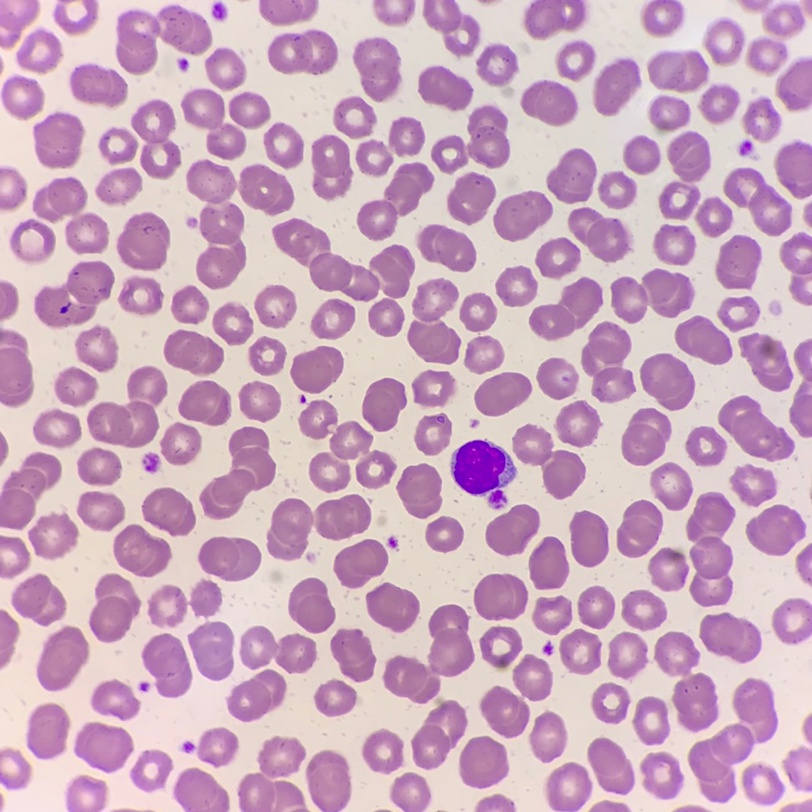RBC: (274, 219, 414, 300), (689, 679, 775, 800), (384, 605, 473, 702), (300, 401, 393, 487), (187, 161, 245, 288), (201, 427, 274, 518), (116, 6, 211, 74), (88, 367, 166, 447), (655, 632, 717, 730), (358, 163, 432, 239), (33, 178, 107, 252), (687, 492, 733, 605), (513, 425, 584, 497), (432, 106, 509, 172), (35, 262, 113, 326), (239, 738, 304, 811), (719, 396, 793, 459), (0, 453, 60, 528), (724, 168, 790, 235), (182, 89, 245, 159), (530, 278, 601, 339), (408, 279, 459, 363), (659, 133, 709, 218), (612, 270, 692, 322), (451, 440, 514, 506), (581, 322, 633, 401), (132, 100, 180, 178), (412, 701, 466, 768), (241, 626, 315, 671), (90, 574, 139, 641), (37, 627, 88, 690), (569, 208, 628, 261), (143, 634, 191, 696), (424, 0, 478, 55), (640, 354, 694, 409), (268, 30, 337, 73), (118, 213, 169, 270), (700, 613, 760, 661), (739, 335, 791, 390), (114, 525, 170, 576), (228, 670, 285, 720), (746, 505, 804, 554), (354, 38, 399, 101), (75, 722, 132, 771), (494, 192, 551, 240), (622, 408, 670, 464), (34, 113, 83, 167), (268, 499, 312, 559), (199, 537, 260, 580), (418, 225, 475, 271), (240, 165, 293, 214), (12, 575, 65, 624), (307, 751, 350, 811), (675, 317, 731, 363), (486, 505, 538, 554), (547, 149, 595, 202), (594, 59, 639, 115), (189, 622, 233, 679), (165, 331, 223, 374), (334, 540, 387, 587), (588, 738, 633, 793), (289, 578, 334, 632), (617, 501, 661, 556), (0, 330, 32, 405), (367, 584, 418, 631), (460, 736, 507, 787), (312, 135, 350, 198), (143, 488, 195, 534), (474, 574, 527, 619), (316, 495, 370, 539), (475, 372, 530, 415), (291, 346, 342, 392), (522, 81, 575, 125), (524, 0, 585, 38), (481, 687, 528, 736), (716, 236, 760, 288), (70, 65, 127, 105), (419, 66, 472, 109), (27, 704, 69, 758), (448, 173, 494, 222), (648, 53, 707, 91), (398, 464, 440, 517), (175, 769, 228, 811), (179, 381, 230, 424), (331, 629, 374, 680), (363, 378, 405, 430), (780, 235, 811, 304), (547, 763, 590, 810), (790, 340, 811, 436), (570, 512, 607, 566), (529, 537, 568, 588), (29, 515, 76, 557), (775, 145, 811, 197), (17, 30, 61, 72), (556, 401, 598, 445), (651, 463, 691, 509), (641, 753, 681, 798), (0, 0, 38, 47), (772, 598, 811, 643), (78, 492, 124, 530), (92, 681, 139, 718), (480, 627, 521, 669), (11, 220, 54, 260), (77, 327, 116, 371), (776, 60, 811, 109), (530, 712, 565, 761), (513, 655, 551, 700), (2, 77, 43, 118), (334, 97, 375, 138), (264, 124, 303, 167), (536, 238, 579, 277), (732, 466, 775, 505), (560, 630, 599, 673), (312, 299, 354, 338), (623, 590, 665, 629), (705, 21, 743, 64), (609, 632, 645, 677), (34, 411, 80, 446), (255, 286, 295, 326), (206, 49, 245, 90), (363, 730, 402, 771), (478, 44, 516, 86), (649, 548, 687, 590), (634, 697, 668, 743), (537, 358, 576, 398), (131, 751, 171, 790), (97, 168, 141, 203), (654, 225, 693, 264), (213, 305, 252, 344), (496, 267, 536, 305), (162, 424, 200, 464), (309, 453, 349, 491), (240, 382, 279, 420), (686, 427, 725, 465), (120, 278, 162, 313), (78, 449, 120, 484), (259, 0, 317, 25), (650, 96, 688, 134), (391, 773, 429, 811), (198, 728, 237, 765), (642, 0, 682, 36), (56, 368, 96, 404), (578, 587, 614, 627), (55, 0, 97, 34), (557, 41, 594, 79), (149, 586, 186, 624), (743, 765, 781, 802), (415, 415, 451, 454), (592, 683, 628, 722), (229, 93, 269, 128), (315, 680, 355, 715), (623, 136, 659, 174), (533, 597, 571, 633), (413, 371, 453, 405), (700, 86, 737, 122), (249, 337, 285, 374), (696, 198, 731, 236), (67, 776, 105, 811), (744, 100, 777, 140), (599, 172, 635, 208), (460, 293, 495, 330), (465, 337, 502, 372), (719, 297, 758, 330), (389, 118, 424, 154), (369, 299, 403, 336), (172, 287, 207, 322), (100, 129, 136, 163), (426, 517, 462, 551), (747, 40, 785, 72), (763, 5, 802, 35), (0, 536, 29, 576), (356, 142, 391, 175), (0, 750, 30, 788), (0, 168, 26, 209), (191, 581, 221, 615), (374, 0, 414, 25), (0, 610, 18, 665), (784, 749, 811, 784), (0, 282, 17, 318), (476, 795, 514, 811), (796, 545, 811, 582), (592, 801, 627, 811), (784, 801, 811, 811), (145, 454, 159, 471), (741, 0, 765, 9), (214, 5, 225, 19), (804, 717, 811, 739), (0, 438, 7, 459), (804, 204, 811, 222), (680, 806, 701, 811), (804, 0, 811, 11)
